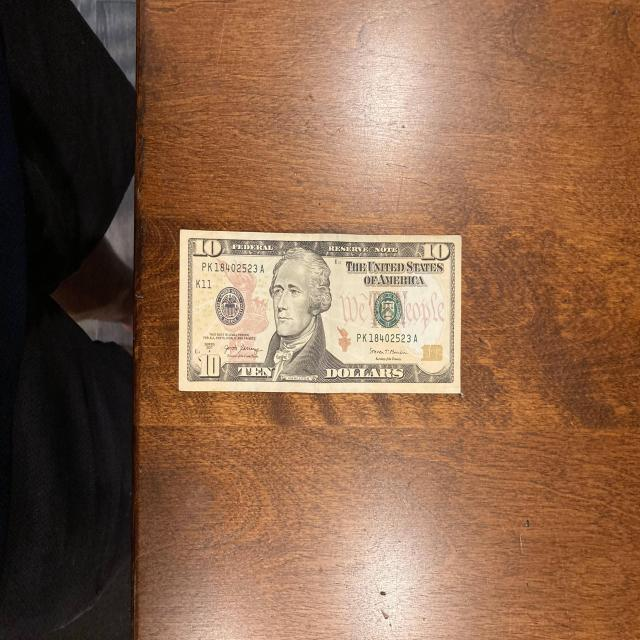ten: (178, 230, 462, 394)
